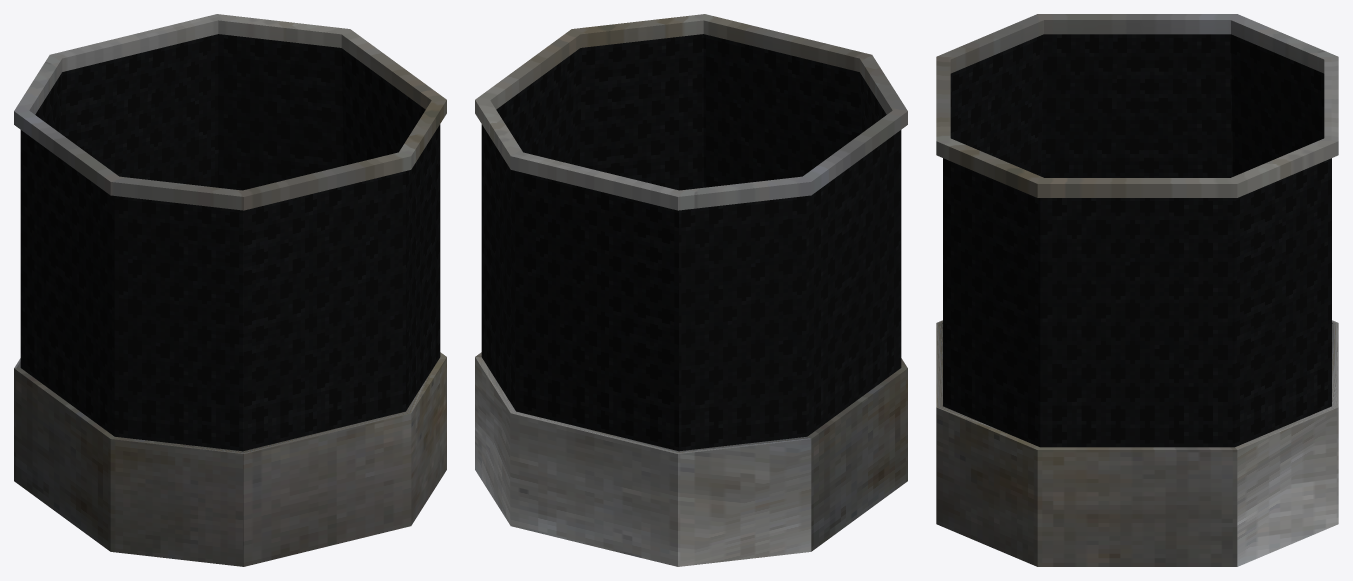
Rendered from CoalBasketMedium.fbx.
The picture shows the model from 3 angles, left to right: view 1: azimuth 30°, elevation 25°; view 2: azimuth 150°, elevation 25°; view 3: azimuth 270°, elevation 25°; orthographic projection. The views are drawn at different scales.
Visible parts, largest first — view 1: Basket1; view 2: Basket1; view 3: Basket1.
Part boxes in pixels (left/top/right/bottom): Basket1: left=14, top=14, right=446, bottom=566; Basket1: left=475, top=14, right=907, bottom=566; Basket1: left=936, top=14, right=1338, bottom=566.
Bounding box in the file's own units: 1.76 × 1.85 × 1.76.
Materials: 3 (3 with a texture image).
